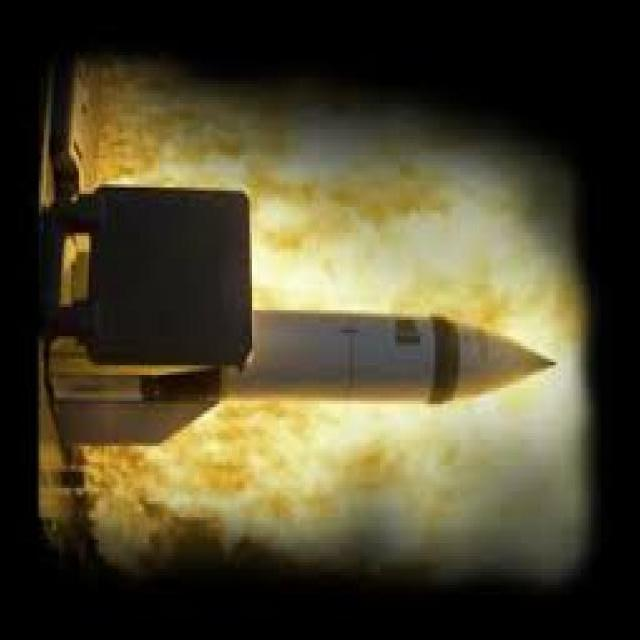missile: (43, 311, 568, 419)
